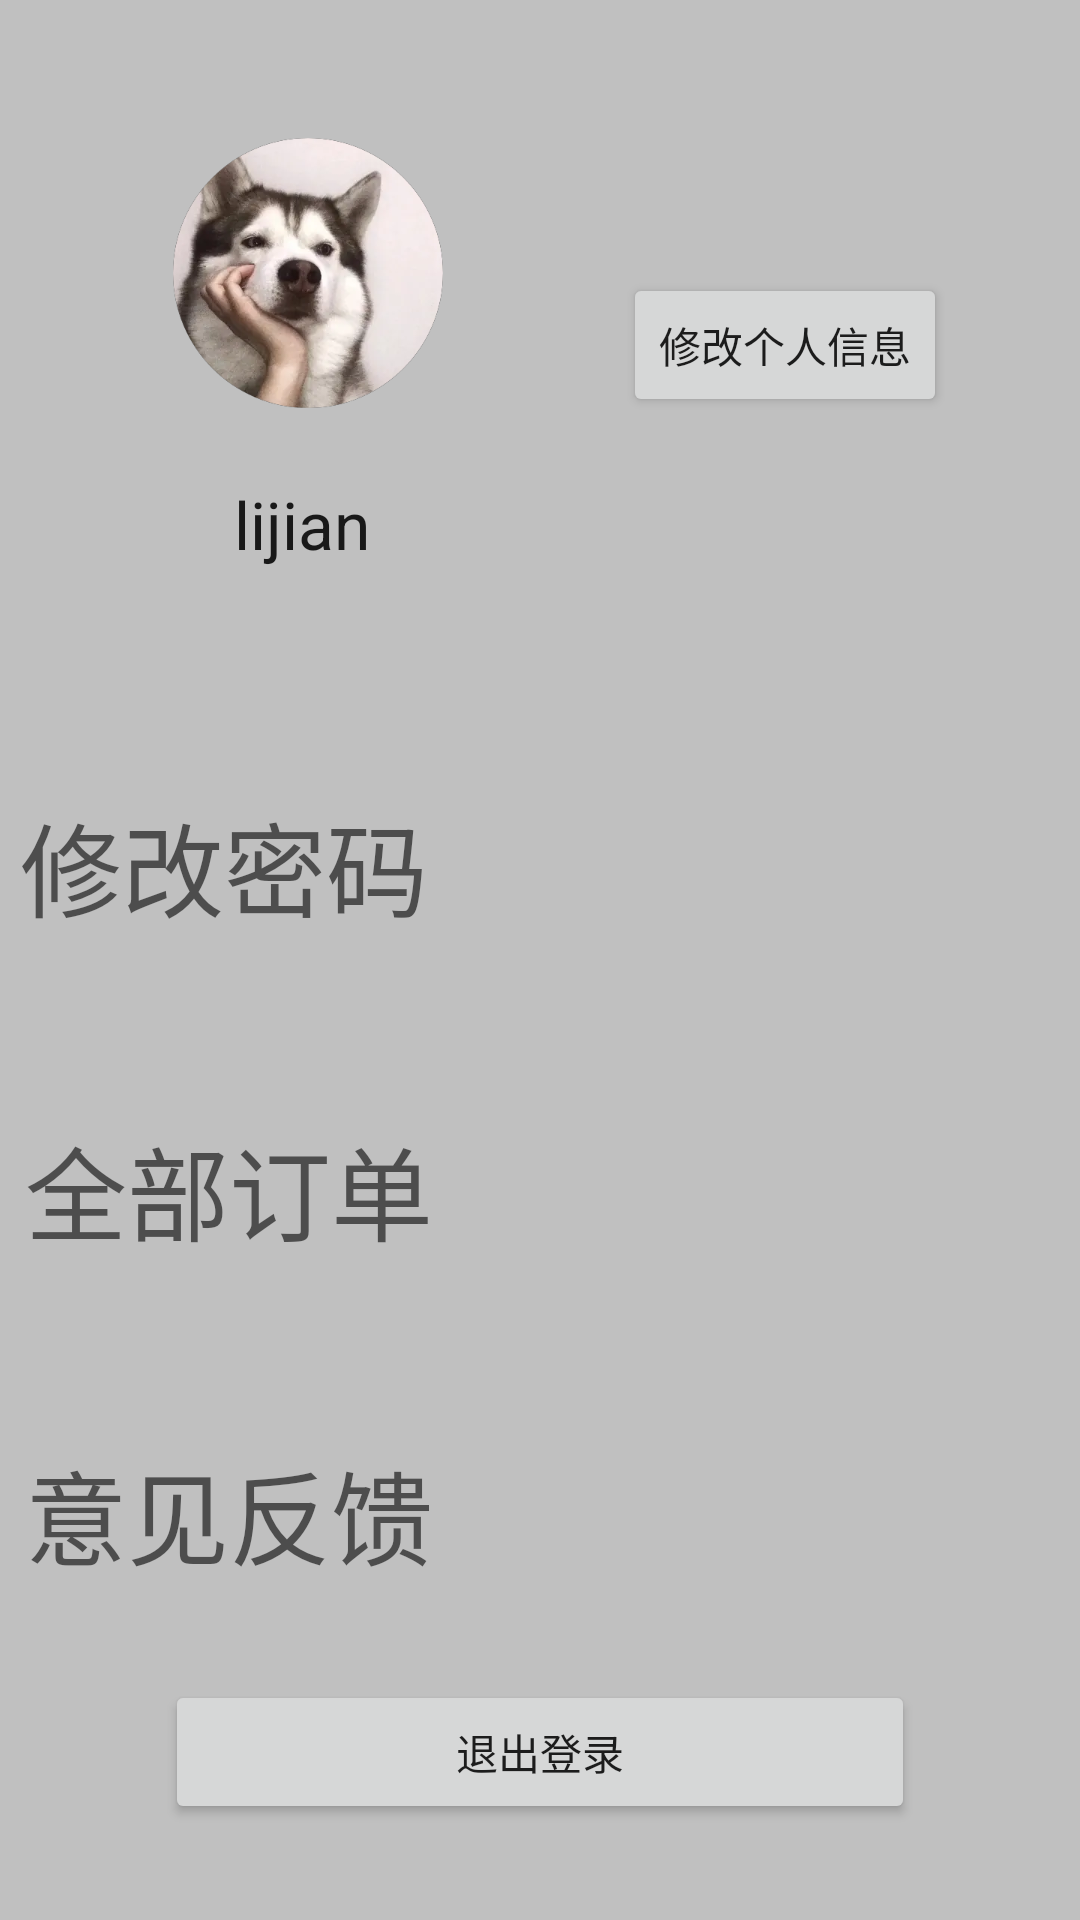

Icons on this 1080x1920 Android screen, each with its box as bbox=(x1, y1, x2, y2):
head: bbox=(173, 138, 443, 408)
